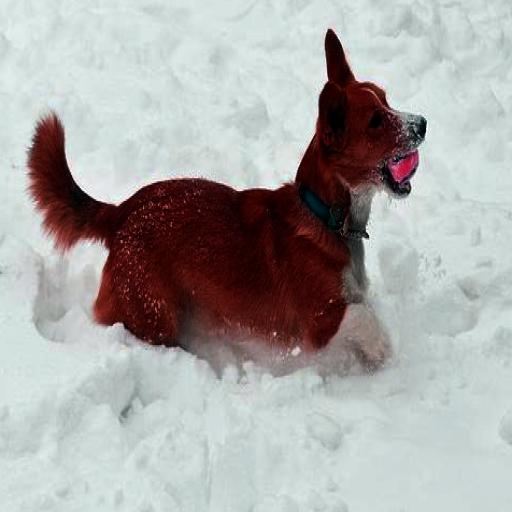dog_face: (310, 29, 418, 204)
